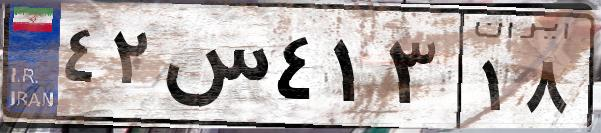1: (330, 28, 385, 110), (475, 38, 525, 113)
2: (110, 28, 158, 98)
3: (385, 28, 445, 110)
4: (270, 28, 330, 110), (57, 26, 110, 100)
8: (525, 38, 570, 115)
س: (158, 20, 270, 120)
